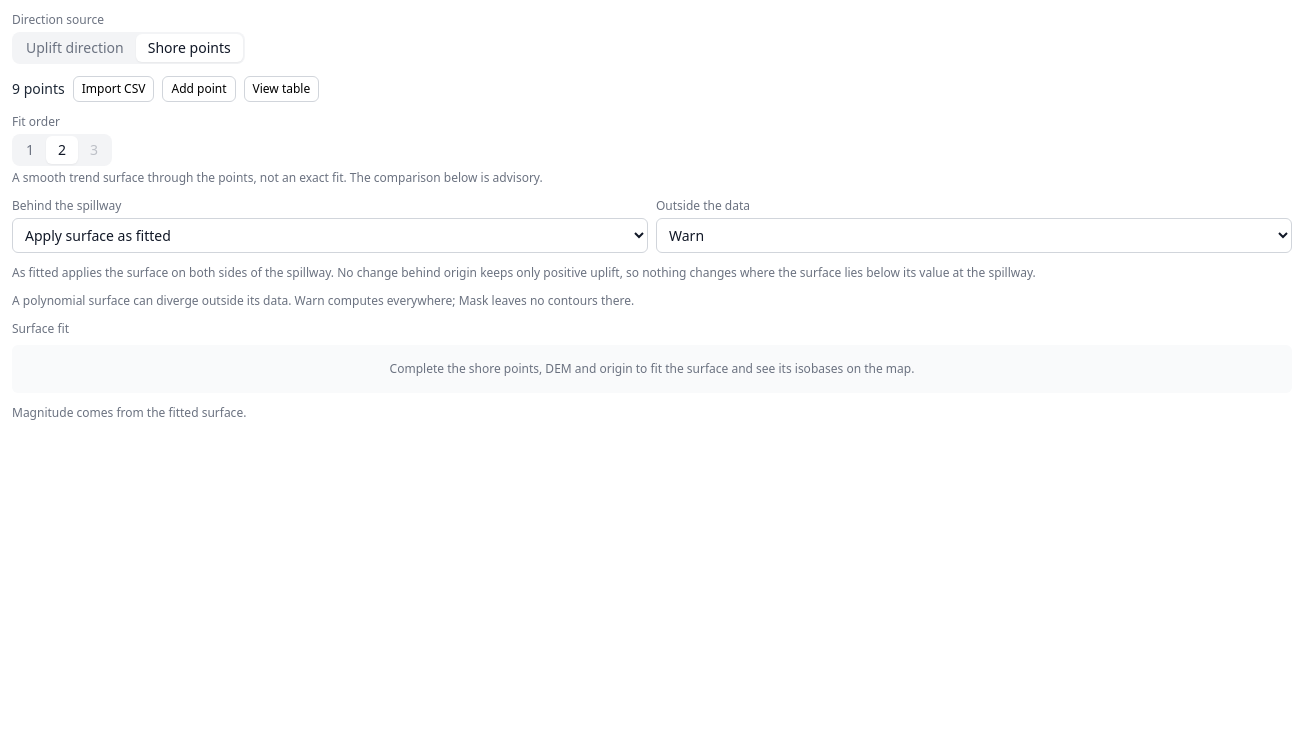
it: the points table › offers no residual sort until a fit exists
Click the button "View table".
click(281, 89)  # box [244,76,319,102]
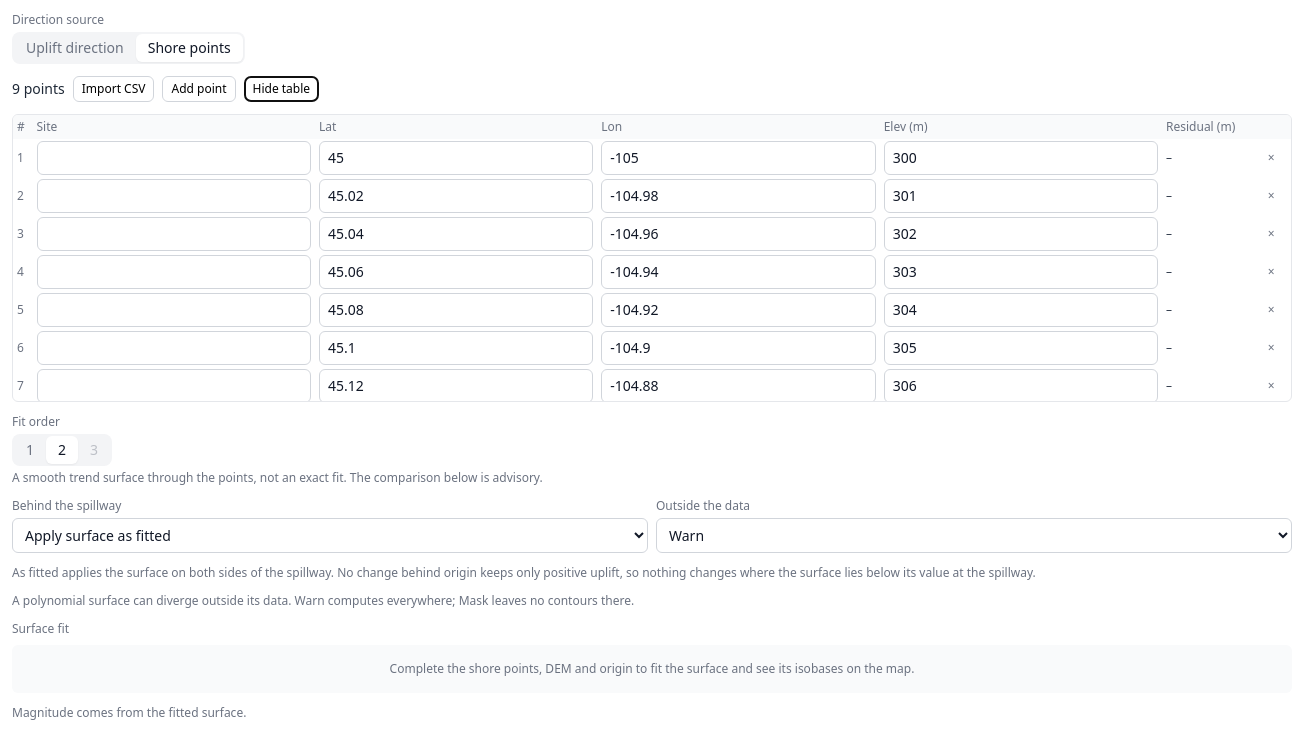
Check: the button "Residual (m)" is disabled, box [1166,119,1235,135]
